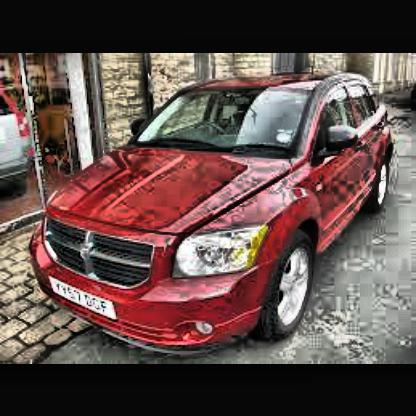Dodge Caliber Wagon 2007: (33, 74, 397, 353)
